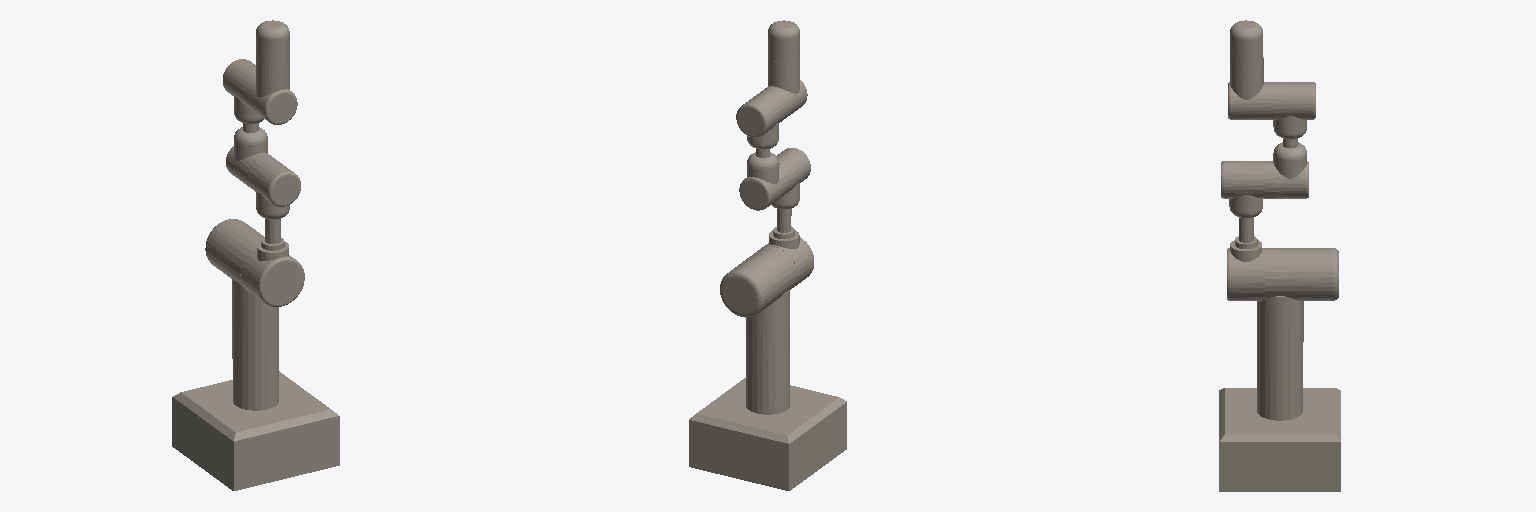
The robot description file, URDF, robot "prototype2":
<robot name="prototype2">
  
    <link name="base">
        <inertial>
            <origin xyz="0 0 0.0990895321440592" rpy="0 0 0" />
            <mass value="253.525333333333" />
            <inertia ixx="4.18309607973971" ixy="-2.39753911095338E-16" ixz="2.91074903770969E-17" iyy="4.18309607973971" iyz="4.7236418800763E-17" izz="6.70311765333334" />
        </inertial>
        <visual>
            <origin xyz="0 0 0" rpy="0 0 0" />
            <geometry>
                <mesh filename="package://fourbythree_description/meshes/prototype2_base.stl" />
            </geometry>
            <material name="">
                <color rgba="0.647058823529412 0.619607843137255 0.588235294117647 1" />
            </material>
        </visual>    
    </link>
    
    <link name="link_1">
        <inertial>
            <origin xyz="-0.0443267514949205 4.17458899834022E-05 0.371569513138346" rpy="0 0 0" />
            <mass value="72.7486650193488" />
            <inertia ixx="2.66763226671502" 
                     ixy="-4.54746430176038E-05" 
                     ixz="-0.39683506701499" 
                     iyy="2.91996037500999" 
                     iyz="0.000273701664248249" 
                     izz="0.489815571859748" />
        </inertial>
        <visual>
            <origin xyz="0 0 0" rpy="0 0 -1.570796327" />
            <geometry>
                <mesh filename="package://fourbythree_description/meshes/prototype2_link_1.stl" />
            </geometry>
            <material name="">
                <color rgba="0.647058823529412 0.619607843137255 0.588235294117647 1" />
            </material>
        </visual>
    </link>
    
    <link name="link_2">
        <inertial>
            <origin xyz="-0.141356232424118 0 0.0652085598166571" rpy="1.5708 0 0" />
            <mass value="47.3273241083633" />
            <inertia ixx="0.129118244613837" 
                     ixy="1.40177310772871E-07" 
                     ixz="-0.0256044142579582" 
                     iyy="1.26536972903653" 
                     iyz="1.01962720485977E-07" 
                     izz="1.26817604835663" />
        </inertial>
        <visual>
            <origin xyz="0 0 0.05" rpy="0 0 0" />
            <geometry>
                <mesh filename="package://fourbythree_description/meshes/prototype2_link_2.stl" />
            </geometry>
            <material name="">
                <color rgba="0.647058823529412 0.619607843137255 0.588235294117647 1" />
            </material>
        </visual>
    </link>

    <link name="link_3">
        <inertial>
            <origin xyz="0.143098508131295 0 0.0839477120173431" rpy="0 0 0" />
            <mass value="39.1162237962465" />
            <inertia ixx="0.0972713237779315" 
                     ixy="2.87522511938195E-07" 
                     ixz="0.0450720613591072" 
                     iyy="0.710167085573886" 
                     iyz="1.64081926222993E-07" 
                     izz="0.684964326880907" />
        </inertial>
        <visual>
            <origin xyz="0 0 0.05" rpy="3.1416 0 0" />
            <geometry>
                <mesh filename="package://fourbythree_description/meshes/prototype2_link_3.stl" />
            </geometry>
            <material name="">
                <color rgba="0.647058823529412 0.619607843137255 0.588235294117647 1" />
            </material>
        </visual>
    </link>
    
    <link name="link_4">
        <inertial>
            <origin xyz="-0.0375920451703105 0 0.0768555645788675" rpy="0 0 0" />
            <mass value="22.1846303925778" />
            <inertia ixx="0.0523613500364305" 
                     ixy="-1.23143558223779E-08" 
                     ixz="-0.00596010682459545" 
                     iyy="0.109918992669326" 
                     iyz="6.96589372018293E-09" 
                     izz="0.0984266547117798" />
        </inertial>
        <visual>
            <origin xyz="0 0 0.025" rpy="0 0 0" />
            <geometry>
                <mesh filename="package://fourbythree_description/meshes/prototype2_link_4.stl" />
            </geometry>
            <material name="">
                <color rgba="0.647058823529412 0.619607843137255 0.588235294117647 1" />
            </material>
        </visual>
    </link>
    
     <link name="link_5">
        <inertial>
            <origin xyz="0 0 0.0571563163041219" rpy="0 0 0" />
            <mass value="8.81605733093453" />
            <inertia ixx="0.0163023394294274" 
                     ixy="-1.68051336735253E-18" 
                     ixz="3.25260651745651E-18" 
                     iyy="0.0163023394294274" 
                     iyz="8.67361737988404E-19" 
                     izz="0.0131360832115547" />
        </inertial>
        <visual>
            <origin xyz="0 0 0" rpy="0 0 0" />
            <geometry>
                <mesh filename="package://fourbythree_description/meshes/prototype2_link_5.stl" />
            </geometry>
            <material name="">
                <color rgba="0.647058823529412 0.619607843137255 0.588235294117647 1" />
            </material>
        </visual>
    </link>
    
    
    
    
    <joint name="joint_1" type="revolute">
        <origin xyz="0 0 0.2" rpy="0 0 0" />
        <parent link="base" />
        <child link="link_1" />
        <axis xyz="0 0 1" />
        <limit lower="-2.967" upper="2.967" effort="70" velocity="0.2" />
    </joint>
    
    <joint name="joint_2" type="revolute">
        <origin xyz="0 0 0.49506" rpy="0 1.5708 -1.5708" />
        <parent link="link_1" />
        <child link="link_2" />
        <axis xyz="0 0 1" />
        <limit lower="-3.2351" upper="2.699" effort="70" velocity="0.2" />
    </joint>
    
    <joint name="joint_3" type="revolute">
        <origin xyz="-0.3436 0 0" rpy="0 0 -3.1416" />
        <parent link="link_2" />
        <child link="link_3" />
        <axis xyz="0 0 1" />
        <limit lower="-1.6645" upper="4.2696" effort="35" velocity="0.2" />
    </joint>
    
    <joint name="joint_4" type="revolute">
        <origin xyz="0.2862 0 0" rpy="0 0 -3.1416" />
        <parent link="link_3" />
        <child link="link_4" />
        <axis xyz="0 0 1" />
        <limit lower="-3.2727" upper="2.6615" effort="35" velocity="0.2" />
    </joint>
    
    <joint name="joint_5" type="revolute">
        <origin xyz="-0.1571 0 0.11" rpy="0 -1.5708 0" />
        <parent link="link_4" />
        <child link="link_5" />
        <axis xyz="0 0 1" />
        <limit lower="-2.9671" upper="2.9671" effort="35" velocity="0.2" />
    </joint>
    
</robot>

--- What the picture shows (computed from the rendered views, not written in the file) ---
The picture shows the robot from 3 angles, left to right: view 1: azimuth 30°, elevation 25°; view 2: azimuth 150°, elevation 25°; view 3: azimuth 270°, elevation 25°; orthographic projection.
Robot: prototype2 — 6 links, 5 joints (5 revolute); root link base; default pose: all joints at 0.
Visible links, largest first — view 1: base, link_1, link_2, link_3, link_4, link_5; view 2: base, link_1, link_3, link_2, link_4, link_5; view 3: base, link_1, link_2, link_3, link_4, link_5.
Link boxes in pixels (x1,y1,x2,y2): base: (172,371,339,490); link_1: (205,219,278,410); link_2: (241,156,304,306); link_3: (223,59,271,186); link_4: (243,59,297,124); link_5: (256,20,289,64); base: (689,378,846,490); link_1: (720,246,796,414); link_3: (736,89,790,210); link_2: (761,148,813,287); link_4: (764,58,807,118); link_5: (768,20,799,62); base: (1219,388,1340,491); link_1: (1257,248,1338,420); link_2: (1221,161,1264,300); link_3: (1265,82,1315,198); link_4: (1228,57,1271,119); link_5: (1230,20,1262,64).
Bounding box of the posed robot: 0.4 × 0.4 × 1.6 m (x, y, z).
Meshes: 6 distinct files referenced, 6 mesh visuals loaded (6 binary STL).